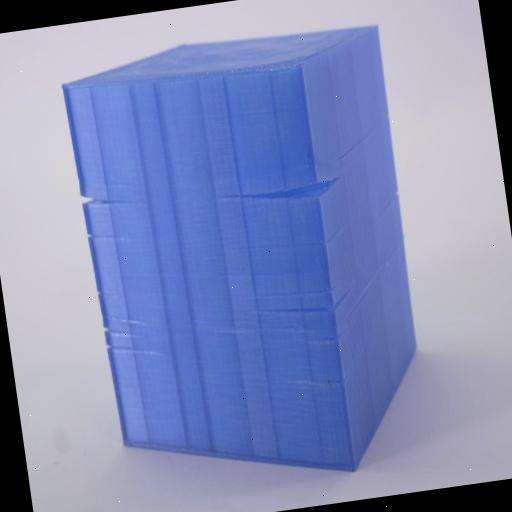cracks: (214, 145, 370, 244), (60, 148, 160, 230)
